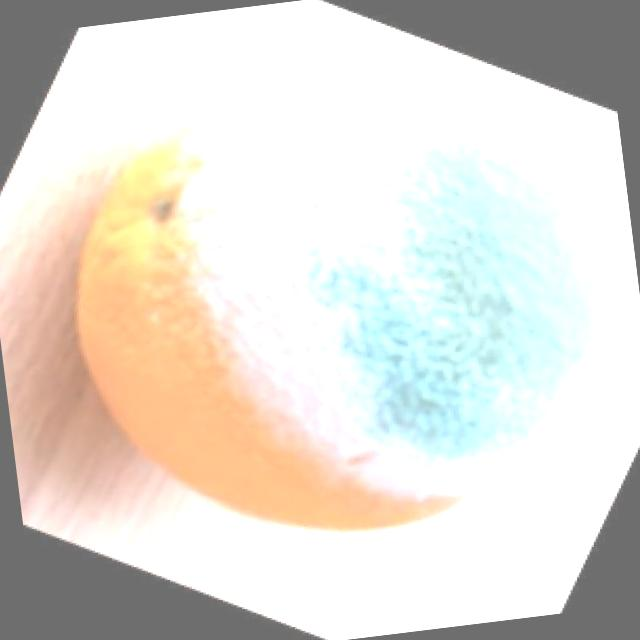Orange: (49, 54, 634, 568)
